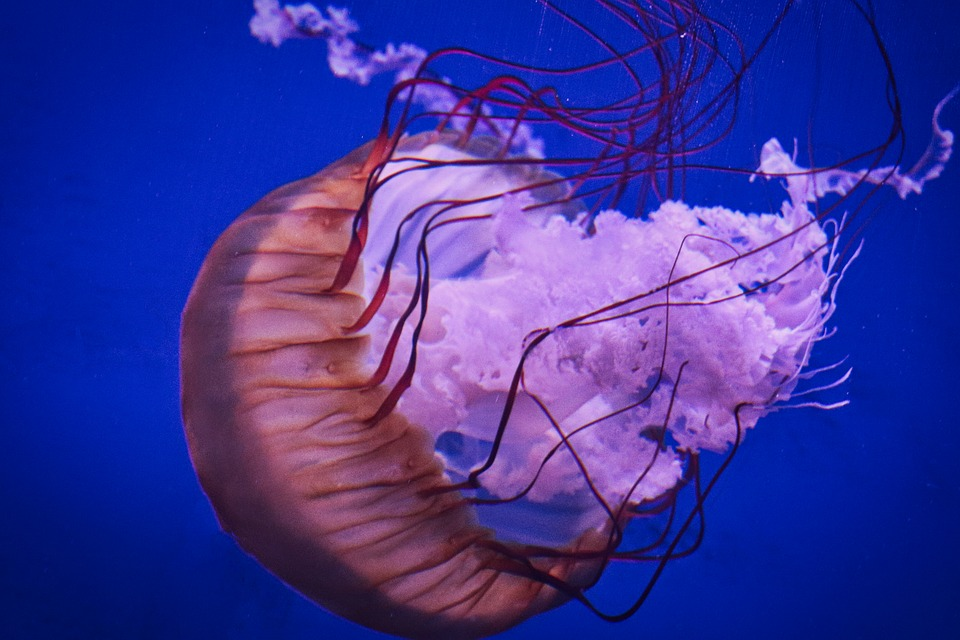jellyfish: (155, 14, 900, 632)
